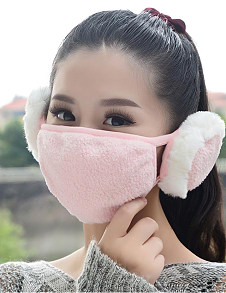face_mask: (39, 48, 160, 223)
